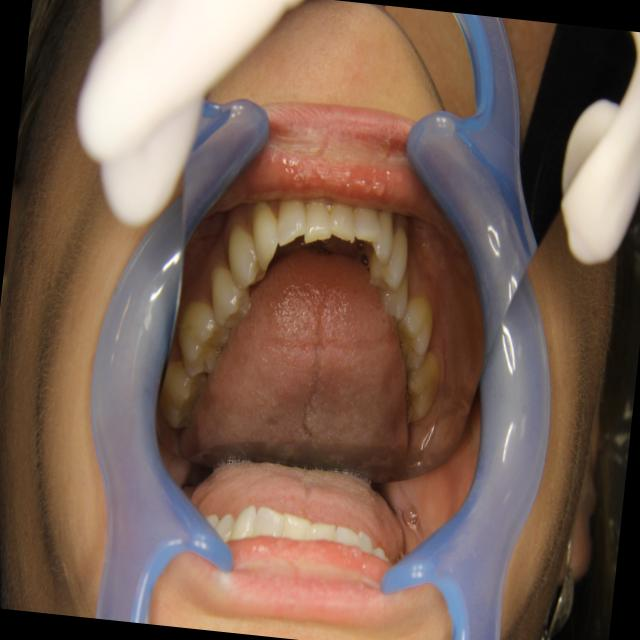tooth: (166, 290, 234, 385), (152, 349, 213, 436), (387, 288, 440, 379), (198, 254, 260, 330), (363, 211, 414, 296), (396, 345, 445, 432), (220, 219, 272, 294), (241, 196, 287, 277), (270, 189, 312, 255), (295, 192, 337, 250), (323, 188, 362, 250), (374, 264, 413, 324), (365, 205, 400, 268), (348, 198, 386, 254)
